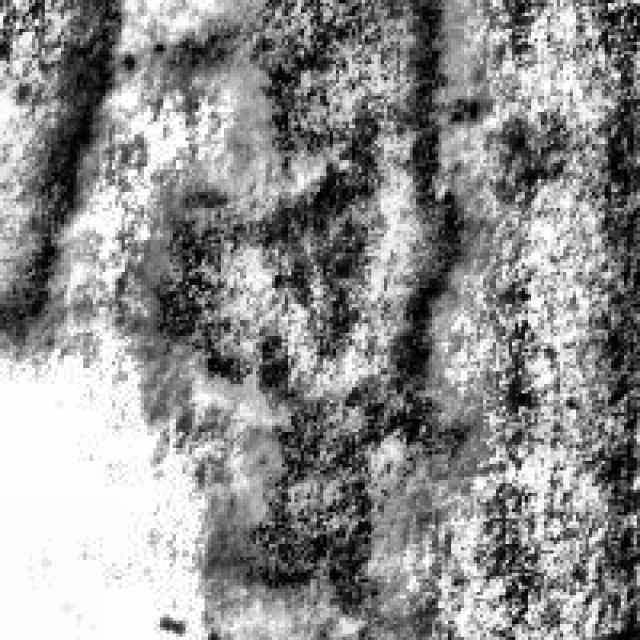Scratches: (157, 0, 470, 605), (0, 0, 115, 336)
